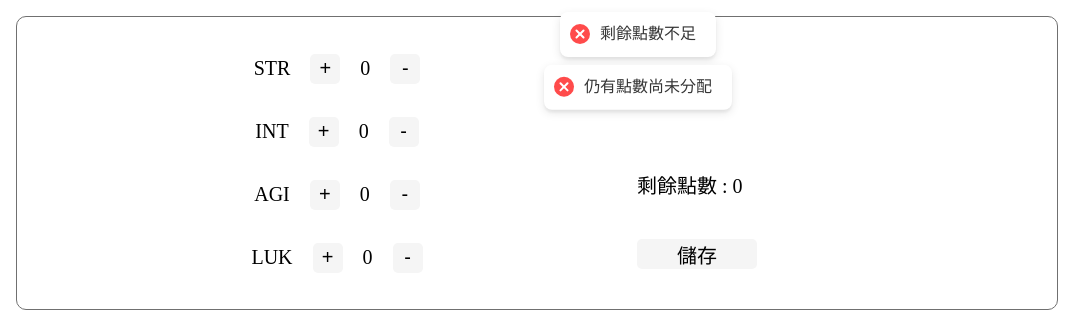
Test: HeroProfile component › 能力點數 < 0會跳錯
This screenshot has width=1075, height=327.
Click the button "-" in the row of "STR".
click(405, 68)  # box [390,54,420,84]
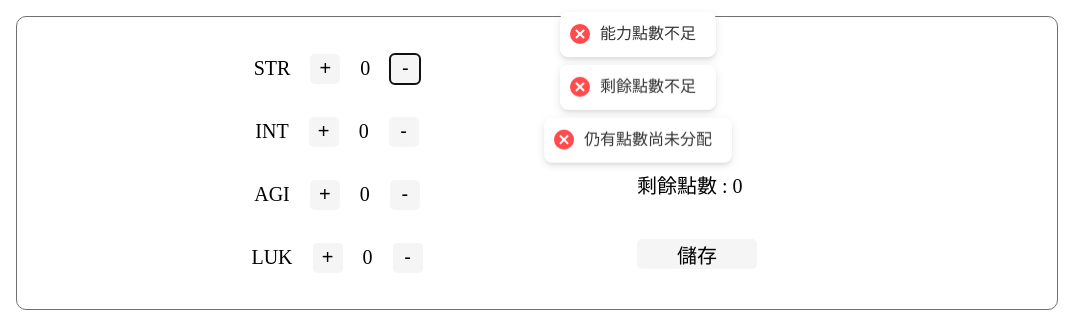
Result: the text "能力點數不足" is shown at [600,24,696,45]
